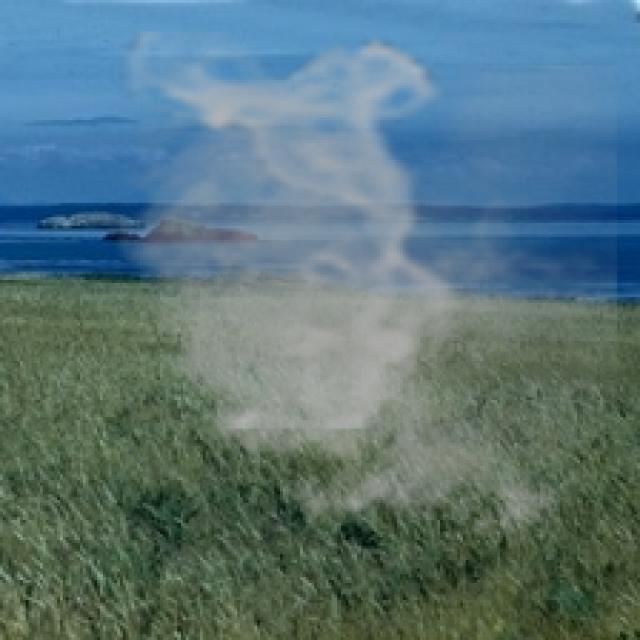smoke: (97, 31, 617, 552)
